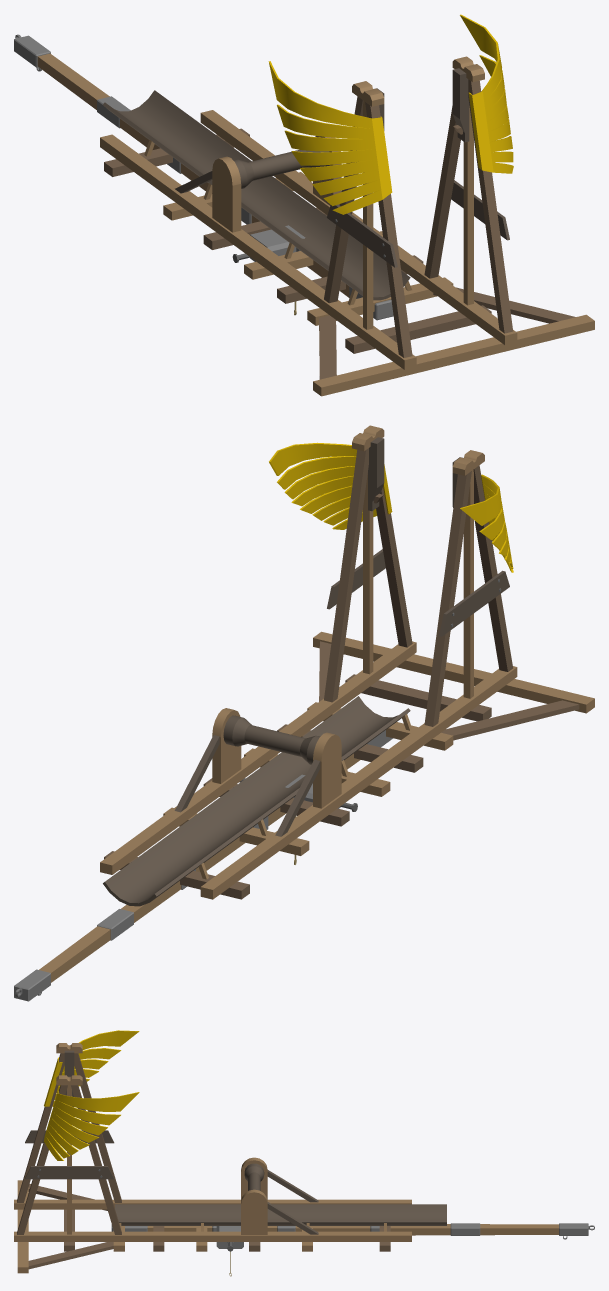
File: Trebuchet_Rope_01.fbx
The picture shows the model from 3 angles, top to bottom: view 1: azimuth 30°, elevation 25°; view 2: azimuth 150°, elevation 25°; view 3: azimuth 270°, elevation 25°; orthographic projection. The views are drawn at different scales.
Parts seen in each view (by area): view 1: Trebuchet_Base, Trebuchet_Arm; view 2: Trebuchet_Base, Trebuchet_Arm; view 3: Trebuchet_Base, Trebuchet_Arm.
Boxes of the visible parts, <box> form: Trebuchet_Base: <box>100,14,594,396</box>; Trebuchet_Arm: <box>14,34,393,320</box>; Trebuchet_Base: <box>100,425,594,906</box>; Trebuchet_Arm: <box>14,730,392,1001</box>; Trebuchet_Base: <box>14,1030,446,1273</box>; Trebuchet_Arm: <box>111,1223,594,1251</box>.
Bounding box in the file's own units: 169 × 194 × 475.
